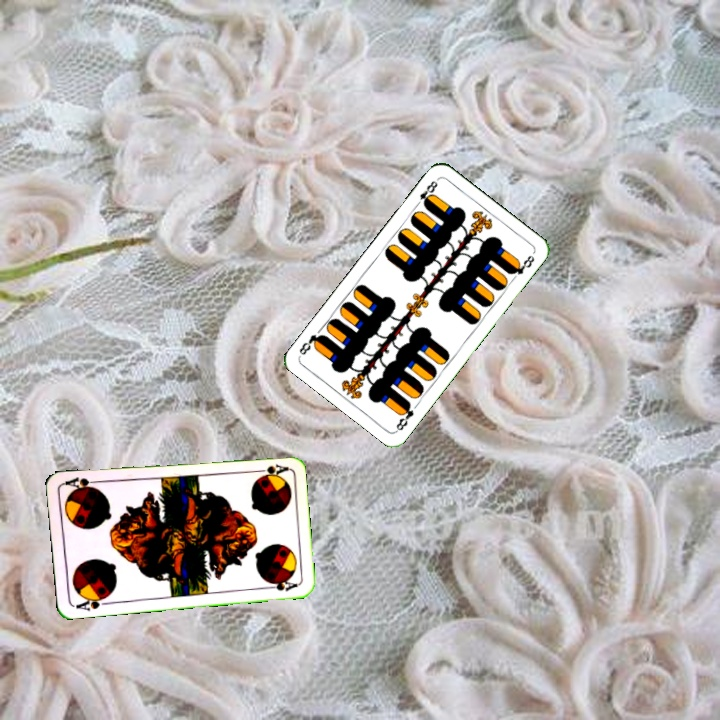E8: (411, 177, 440, 210), (392, 398, 417, 434)
SA: (72, 591, 112, 613), (249, 460, 289, 475)
